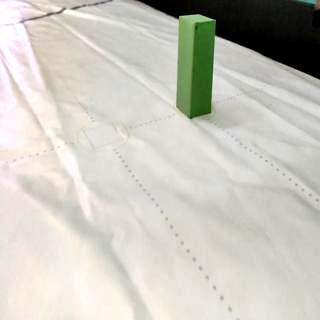greenbox: (178, 13, 215, 122)
